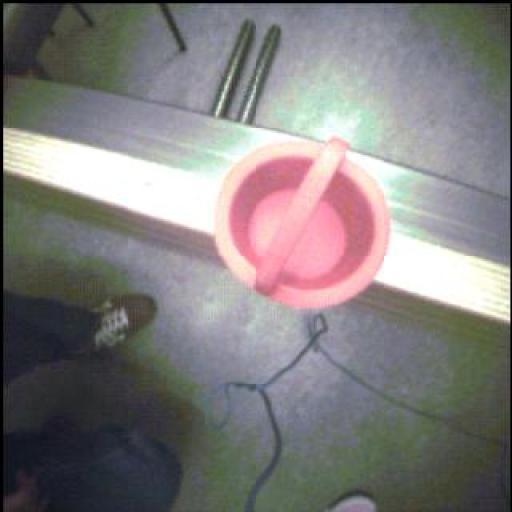Bucket: (218, 137, 390, 314)
